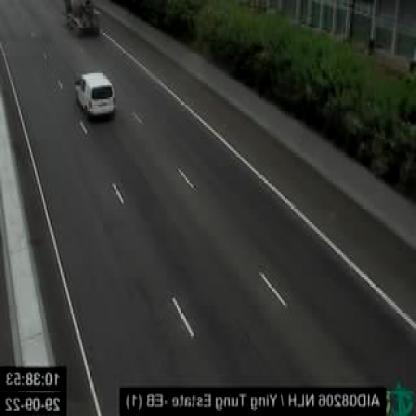Car: (78, 69, 120, 123)
Truck: (60, 0, 108, 43)
